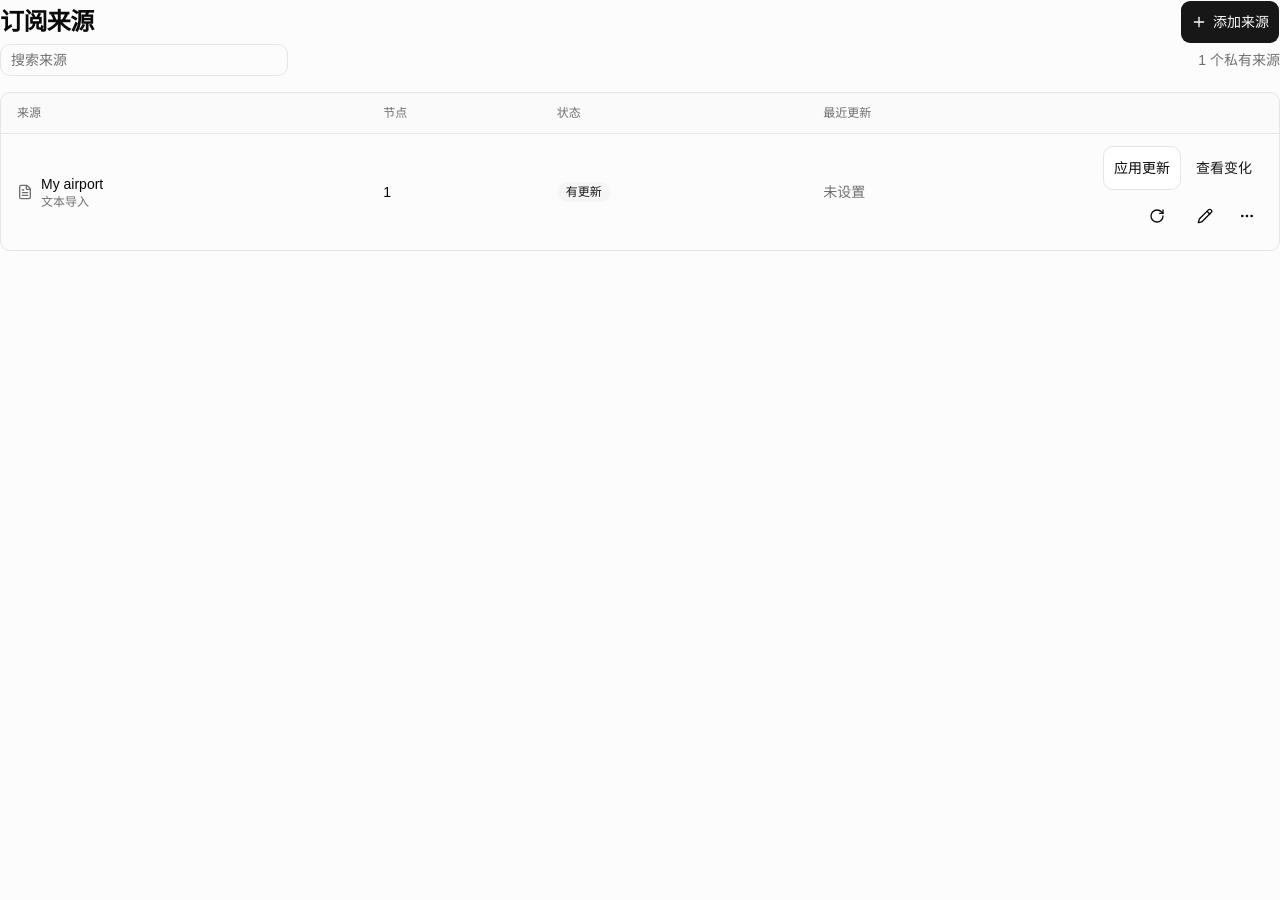
Test case: verifies a lost acceptance response by reading the source without inventing an acceptance receipt
Click the button "查看变化" at (1224, 168), box x1=1185 y1=146 x2=1263 y2=190
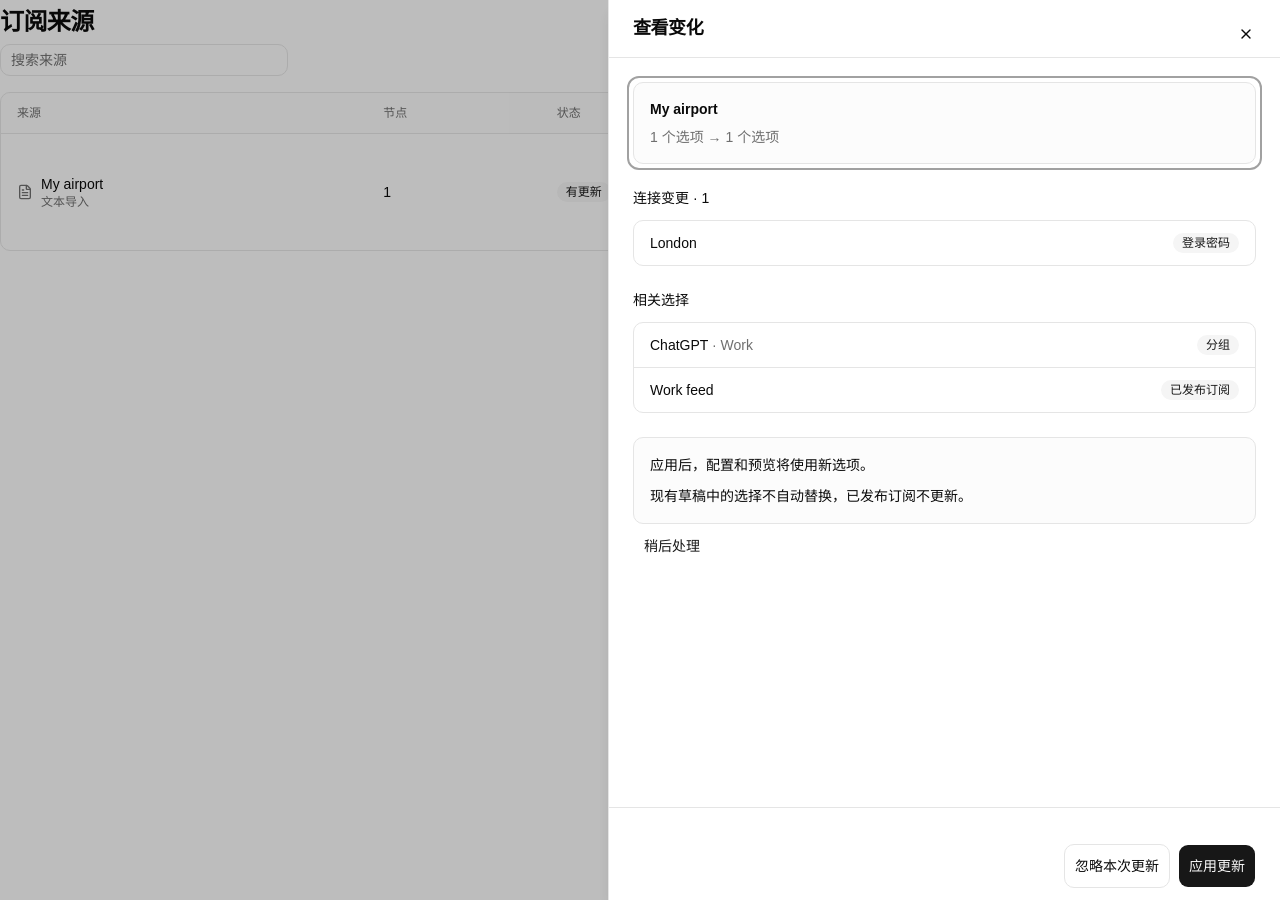
Click the button "应用更新" at (1217, 866), box x1=1178 y1=844 x2=1256 y2=888
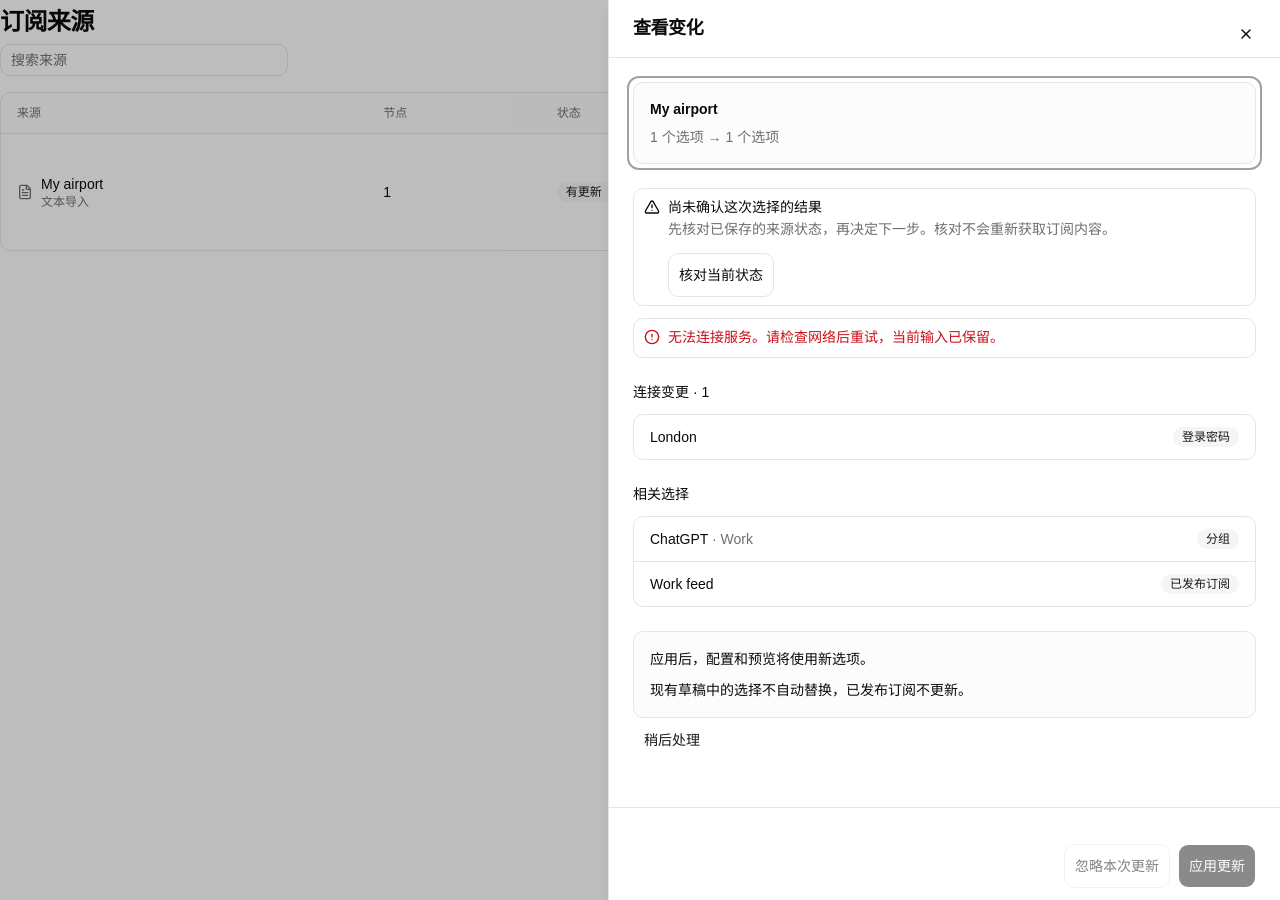
expect the text "尚未确认这次选择的结果" is shown: met, box x1=668 y1=199 x2=822 y2=215
Click the button "核对当前状态" at (721, 275), box x1=668 y1=253 x2=774 y2=297
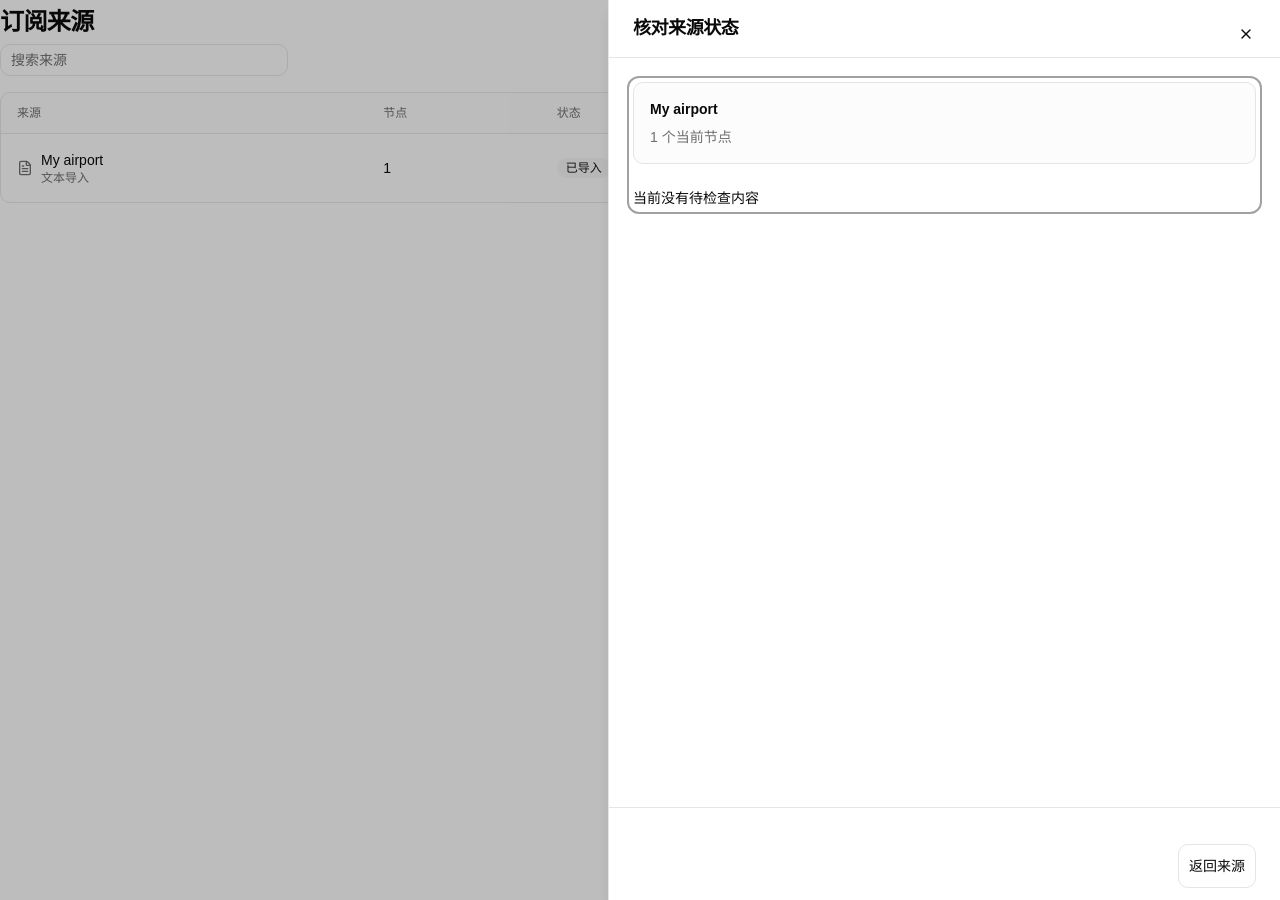
expect the text "当前没有待检查内容" is shown: met, box x1=633 y1=190 x2=759 y2=206
